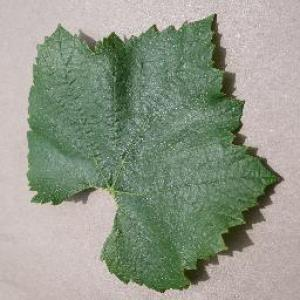Folha: (25, 12, 281, 293)
